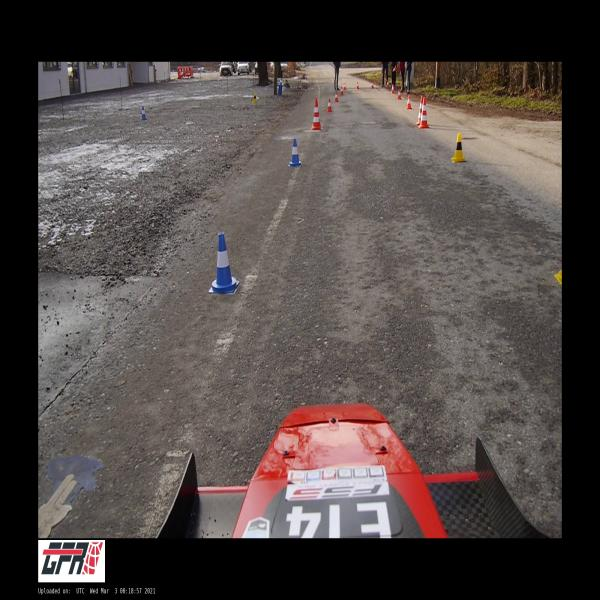blue_cone: (209, 233, 239, 293), (288, 139, 302, 166), (142, 106, 146, 120), (280, 78, 282, 84)
large_orange_cone: (312, 98, 321, 130), (419, 98, 428, 128), (417, 96, 424, 125)
orange_cone: (406, 95, 412, 109), (327, 98, 332, 112), (398, 89, 402, 99), (335, 91, 338, 102), (391, 84, 394, 94), (340, 86, 343, 95), (371, 81, 374, 89), (356, 82, 359, 89), (344, 82, 346, 90), (387, 81, 389, 88)
yellow_cone: (451, 133, 466, 162), (253, 92, 257, 102)
